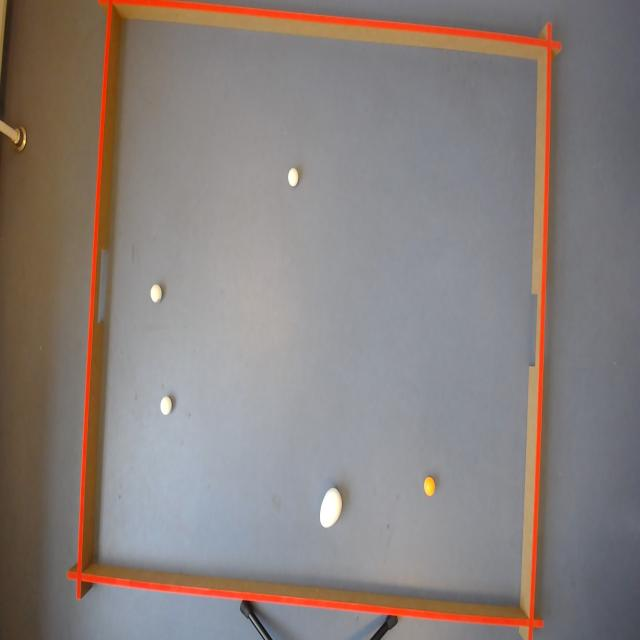egg: (318, 486, 344, 531)
orange_ball: (424, 476, 436, 498)
white_ball: (159, 394, 173, 418), (149, 282, 163, 306), (287, 167, 300, 189)
